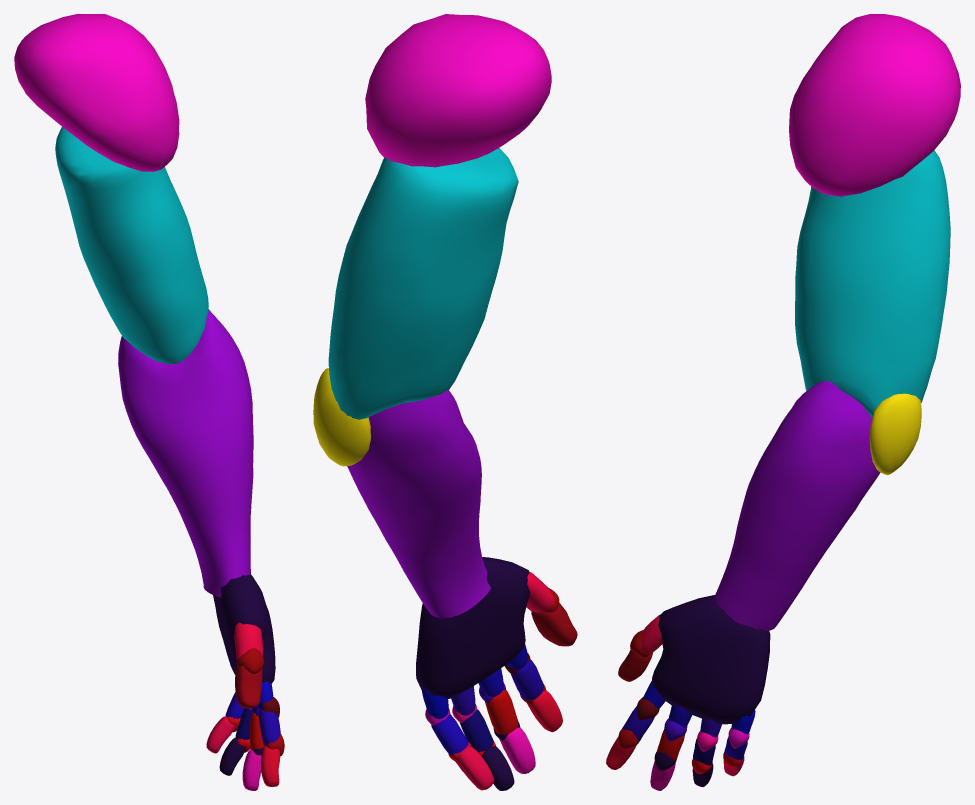
Rendered from BrazoGeo.fbx.
3 renders of one model, left to right at view 1: azimuth 30°, elevation 25°; view 2: azimuth 150°, elevation 25°; view 3: azimuth 270°, elevation 25°, orthographic. The views are drawn at different scales.
Visible parts, largest first — view 1: Forearm, Biceps_copy1, Shoulders_copy1, Hand19; view 2: Biceps_copy1, Shoulders_copy1, Hand19, Forearm, Coudes; view 3: Biceps_copy1, Shoulders_copy1, Forearm, Hand19, Coudes.
Part boxes in pixels (box(x1,y1,x2,y2)): Forearm: box(118, 309, 253, 597); Biceps_copy1: box(55, 127, 208, 364); Shoulders_copy1: box(14, 14, 179, 171); Hand19: box(206, 574, 284, 790); Biceps_copy1: box(328, 148, 518, 419); Shoulders_copy1: box(365, 14, 551, 167); Hand19: box(416, 557, 577, 790); Forearm: box(347, 390, 490, 618); Coudes: box(313, 368, 370, 466); Biceps_copy1: box(795, 150, 950, 417); Shoulders_copy1: box(789, 14, 960, 196); Forearm: box(714, 381, 880, 630); Hand19: box(606, 595, 770, 790); Coudes: box(869, 393, 921, 475).
Size of the model in its own units: 3.35 by 12.04 by 5.29.
